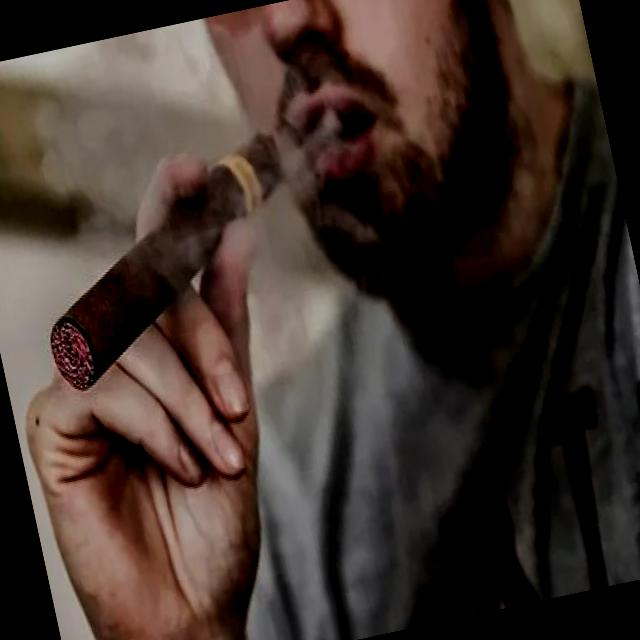cigarette: (13, 120, 340, 403)
